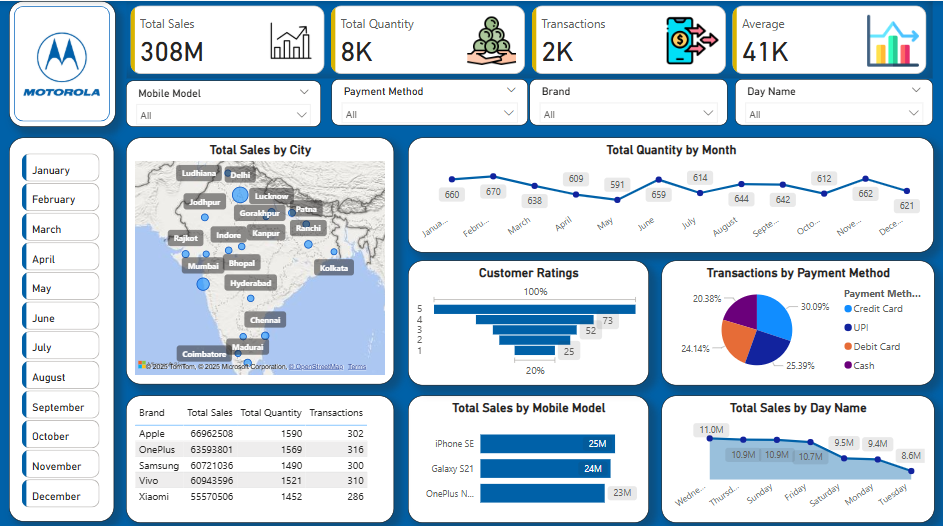

This screenshot's page, from the dashboard's own definition file:
{"tool":"powerbi","page":{"name":"Page 1","canvas":[1280,720],"ordinal":0},"visuals":[{"type":"shape","box":[16.2,0,143.8,170.1],"z":0},{"type":"image","box":[30.4,16.2,113.4,137.7],"z":1000},{"type":"shape","box":[16.2,184.3,141.8,518.5],"z":2000},{"type":"advancedSlicerVisual","fields":{"Values":["Sales_Data.Date.Variation.Date Hierarchy.Month"]},"box":[28.4,200.5,115.4,488.1],"z":3000},{"type":"cardVisual","fields":{"Data":["Sales_Data.Total Sales","Sales_Data.Total Quantity","Sales_Data.Transactions","Sales_Data.Average"]},"box":[173.3,0,1090,105],"z":4000},{"type":"map","fields":{"Category":["Sales_Data.City"],"Size":["Sales_Data.Total Sales"]},"box":[175,185,361.7,333.3],"z":5000},{"type":"lineChart","fields":{"Category":["Sales_Data.Date.Variation.Date Hierarchy.Month","Sales_Data.Date.Variation.Date Hierarchy.Day"],"Y":["Sales_Data.Total Quantity"]},"box":[555,185,710,155],"z":6000},{"type":"clusteredBarChart","fields":{"Category":["Sales_Data.Mobile Model"],"Y":["Sales_Data.Total Sales"]},"box":[555,531.7,325,171.7],"z":7000},{"type":"pieChart","fields":{"Category":["Sales_Data.Payment Method"],"Y":["Sales_Data.Transactions"]},"box":[896.7,350,368.3,168.3],"z":8000},{"type":"funnel","title":"Customer Ratings","fields":{"Category":["Sales_Data.Customer Ratings"],"Y":["CountNonNull(Sales_Data.Customer Ratings)"]},"box":[555,350,325,168.3],"z":9000},{"type":"areaChart","fields":{"Y":["Sales_Data.Total Sales"],"Category":["Sales_Data.Day Name"]},"box":[896.7,531.7,368.3,171.7],"z":10000},{"type":"tableEx","fields":{"Values":["Sales_Data.Brand","Sales_Data.Total Sales","Sales_Data.Total Quantity","Sales_Data.Transactions"]},"box":[175,531.7,361.7,171.7],"z":11000},{"type":"slicer","fields":{"Values":["Sales_Data.Payment Method"]},"box":[451.6,105.3,265.3,62.8],"z":12000},{"type":"slicer","fields":{"Values":["Sales_Data.Mobile Model"]},"box":[174.2,107.3,263.3,62.8],"z":12001},{"type":"slicer","fields":{"Values":["Sales_Data.Brand"]},"box":[719,105.3,267.3,62.8],"z":12002},{"type":"slicer","fields":{"Values":["Sales_Data.Day Name"]},"box":[996.5,105.3,267.3,62.8],"z":12003}]}

Visuals, with their boxes in screenshot pixels (x1, y1, x2, y2), scaled from the page's 1280x720 canvas onto the 943x526 screenshot:
shape: box(12, 0, 118, 124)
image: box(22, 12, 106, 112)
shape: box(12, 135, 116, 513)
advancedSlicerVisual - Sales_Data.Date.Variation.Date Hierarchy.Month: box(21, 146, 106, 503)
cardVisual - Sales_Data.Total Sales x Sales_Data.Total Quantity: box(128, 0, 931, 77)
map - Sales_Data.City x Sales_Data.Total Sales: box(129, 135, 395, 379)
lineChart - Sales_Data.Date.Variation.Date Hierarchy.Month x Sales_Data.Date.Variation.Date Hierarchy.Day: box(409, 135, 932, 248)
clusteredBarChart - Sales_Data.Mobile Model x Sales_Data.Total Sales: box(409, 388, 648, 514)
pieChart - Sales_Data.Payment Method x Sales_Data.Transactions: box(661, 256, 932, 379)
"Customer Ratings" funnel: box(409, 256, 648, 379)
areaChart - Sales_Data.Total Sales x Sales_Data.Day Name: box(661, 388, 932, 514)
tableEx - Sales_Data.Brand x Sales_Data.Total Sales: box(129, 388, 395, 514)
slicer - Sales_Data.Payment Method: box(333, 77, 528, 123)
slicer - Sales_Data.Mobile Model: box(128, 78, 322, 124)
slicer - Sales_Data.Brand: box(530, 77, 727, 123)
slicer - Sales_Data.Day Name: box(734, 77, 931, 123)
